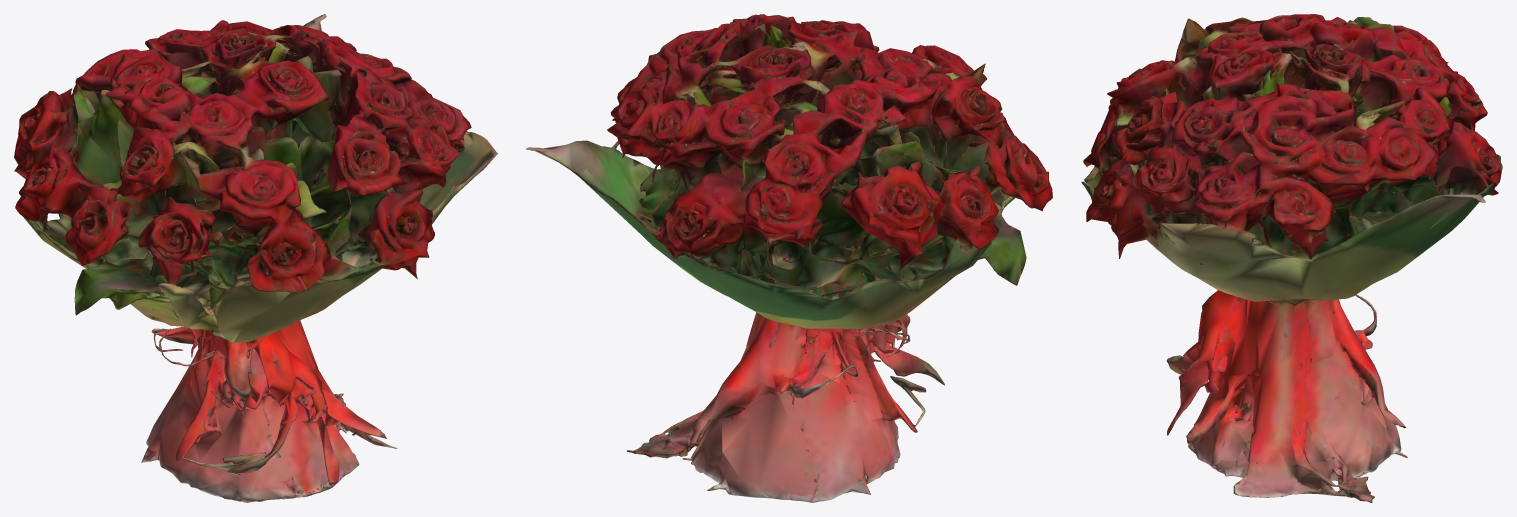
The model's file is ramo-primavera-mobile-draco.glb.
3 views of the same model, side by side, from view 1: azimuth 30°, elevation 25°; view 2: azimuth 150°, elevation 25°; view 3: azimuth 270°, elevation 25° (orthographic). The views are drawn at different scales.
Size of the model in its own units: 1.99 by 2 by 1.92.
1 material, 1 textured.
